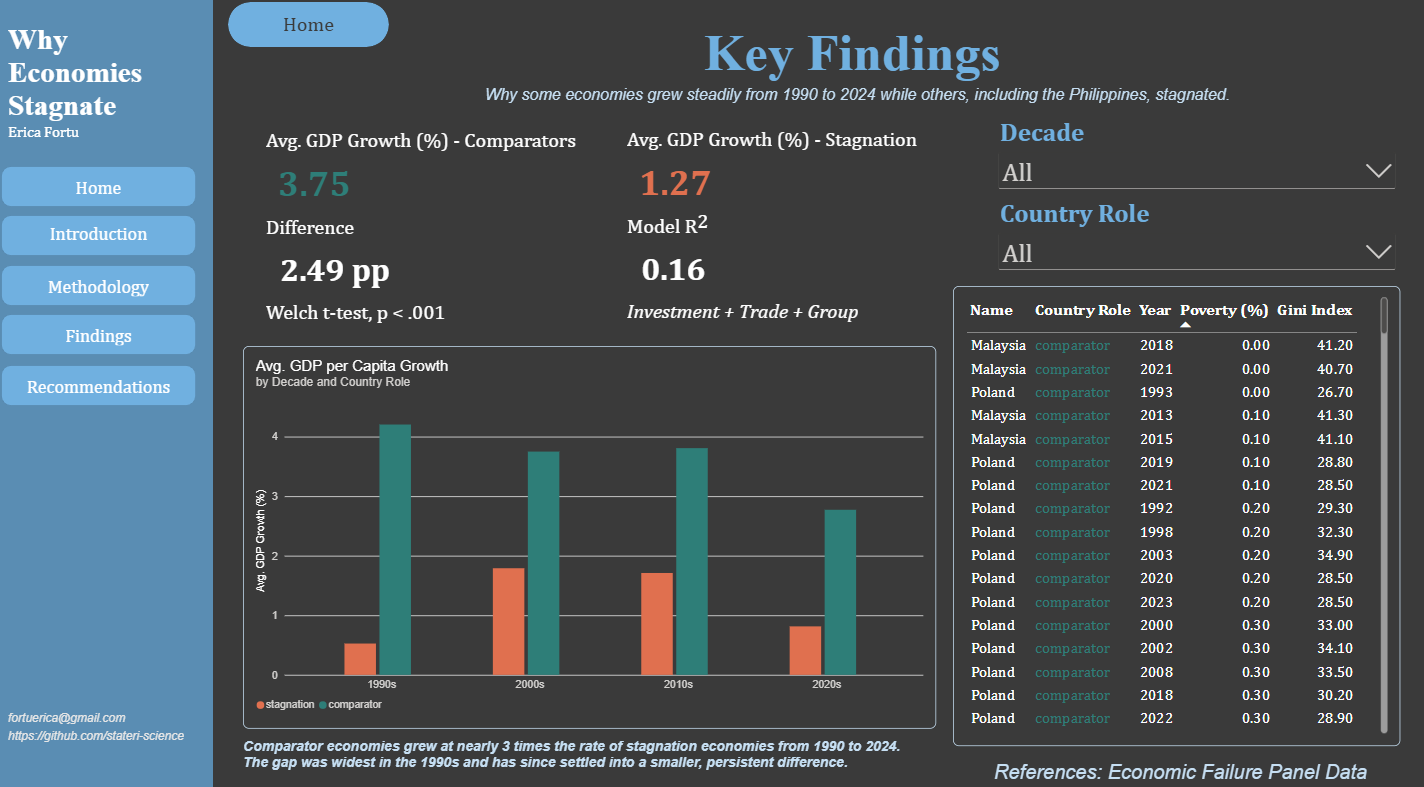

The page's visual inventory and layout, read from the dashboard file:
{"tool":"powerbi","page":{"name":"Findings","canvas":[1920,1080],"ordinal":3},"visuals":[{"type":"shape","box":[316.6,18.6,214.1,59.9],"z":0,"group":"g6"},{"type":"group","id":"g1","title":"Group 1","box":[46.7,61.3,100,40],"z":0},{"type":"actionButton","box":[316.6,35,100,40],"z":1000,"group":"g5"},{"type":"actionButton","box":[316.6,35,100,40],"z":1000,"group":"g4"},{"type":"actionButton","box":[46.7,61.3,100,40],"z":1000,"group":"g1"},{"type":"actionButton","box":[46.7,61.3,100,40],"z":1000,"group":"g2"},{"type":"group","id":"g2","title":"Group 1","box":[46.7,61.3,100,40],"z":1000},{"type":"actionButton","box":[0,0,296.6,1080],"z":2000},{"type":"textbox","title":"Why Economies Stagnate","box":[23.9,46.6,250,166.3],"z":3000},{"type":"shape","box":[14.6,301.9,259.4,54.5],"z":4000},{"type":"shape","box":[14.6,368.4,259.4,54.5],"z":5000},{"type":"shape","box":[14.6,433.6,259.4,54.5],"z":6000},{"type":"textbox","title":"fortuerica@gmail.com","box":[23.9,961.6,250,23.9],"z":7000},{"type":"textbox","title":"https://github.com/stateri-science","box":[23.9,985.6,250,23.9],"z":8000},{"type":"shape","box":[14.6,501.4,259.4,54.5],"z":9000},{"type":"group","id":"g3","title":"Group 1","box":[14.6,236.7,259.4,54.5],"z":10000},{"type":"shape","title":"Methodology","box":[21.3,243.4,246.1,41.2],"z":11000},{"type":"shape","title":"Methodology","box":[21.3,304.6,246.1,41.2],"z":12000},{"type":"shape","box":[14.6,236.7,259.4,54.5],"z":13000,"group":"g3"},{"type":"shape","title":"Methodology","box":[21.3,375.1,246.1,41.2],"z":13000},{"type":"shape","title":"Methodology","box":[21.3,440.2,246.1,41.2],"z":14000},{"type":"shape","title":"Methodology","box":[21.3,508.1,246.1,41.2],"z":15000},{"type":"group","id":"g4","title":"Group 1","box":[316.6,35,100,40],"z":16000},{"type":"group","id":"g5","title":"Group 1","box":[316.6,35,100,40],"z":17000},{"type":"textbox","title":"References: Economic Failure Panel Data","box":[1335.1,1028,541.3,35],"z":18000},{"type":"cardVisual","title":"Avg. GDP Growth (%) - Comparators","fields":{"Data":["Avg(stagnation_panel_1990_2024.gdp_pc_growth_yoy)"]},"box":[367.3,186.5,435.8,99.7],"z":19000,"group":"g7"},{"type":"clusteredColumnChart","fields":{"Category":["stagnation_panel_1990_2024.decade"],"Series":["stagnation_panel_1990_2024.country_role"],"Y":["Avg(stagnation_panel_1990_2024.gdp_pc_growth_yoy)"]},"box":[336.5,476.2,921.7,509.4],"z":19000},{"type":"slicer","fields":{"Values":["stagnation_panel_1990_2024.decade"]},"box":[1335.1,171,540.2,108.8],"z":20000},{"type":"cardVisual","title":"Avg. GDP Growth (%) - Stagnation","fields":{"Data":["Avg(stagnation_panel_1990_2024.gdp_pc_growth_yoy)"]},"box":[847.3,184.6,435.8,99.7],"z":20000,"group":"g7"},{"type":"slicer","fields":{"Values":["stagnation_panel_1990_2024.country_role"]},"box":[1335.1,279.8,540.2,116.6],"z":21000},{"type":"textbox","box":[367.1,285.9,291.3,174.2],"z":21000,"group":"g7"},{"type":"textbox","box":[847.3,283.7,347.9,176.8],"z":22000,"group":"g7"},{"type":"tableEx","fields":{"Values":["stagnation_panel_1990_2024.name","stagnation_panel_1990_2024.country_role","stagnation_panel_1990_2024.year","Avg(stagnation_panel_1990_2024.poverty_215_headcount_pct)","Sum(stagnation_panel_1990_2024.gini_idx)"]},"box":[1280.8,396.4,594.7,612.1],"z":22000},{"type":"actionButton","title":"Key Findings","box":[950.3,46.6,489.7,93.3],"z":23000},{"type":"textbox","box":[336.2,996.9,884.2,48.6],"z":24000},{"type":"textbox","box":[658.8,130.2,1012.5,40.8],"z":25000},{"type":"group","id":"g6","title":"Group 1","box":[316.6,18.6,214.1,59.9],"z":26000},{"type":"group","id":"g7","title":"Group 2","box":[367.1,184.6,916,276],"z":27000}]}

Visuals, with their boxes in screenshot pixels (x1, y1, x2, y2), scaled from the page's 1920x1080 canvas onto the 1424x787 screenshot:
shape: <bbox>235, 14, 394, 57</bbox>
"Group 1" group: <bbox>35, 45, 109, 74</bbox>
actionButton: <bbox>235, 26, 309, 55</bbox>
actionButton: <bbox>235, 26, 309, 55</bbox>
actionButton: <bbox>35, 45, 109, 74</bbox>
actionButton: <bbox>35, 45, 109, 74</bbox>
"Group 1" group: <bbox>35, 45, 109, 74</bbox>
actionButton: <bbox>0, 0, 220, 786</bbox>
"Why Economies Stagnate" textbox: <bbox>18, 34, 203, 155</bbox>
shape: <bbox>11, 220, 203, 260</bbox>
shape: <bbox>11, 268, 203, 308</bbox>
shape: <bbox>11, 316, 203, 356</bbox>
"fortuerica@gmail.com" textbox: <bbox>18, 701, 203, 718</bbox>
"https://github.com/stateri-science" textbox: <bbox>18, 718, 203, 736</bbox>
shape: <bbox>11, 365, 203, 405</bbox>
"Group 1" group: <bbox>11, 172, 203, 212</bbox>
"Methodology" shape: <bbox>16, 177, 198, 207</bbox>
"Methodology" shape: <bbox>16, 222, 198, 252</bbox>
shape: <bbox>11, 172, 203, 212</bbox>
"Methodology" shape: <bbox>16, 273, 198, 303</bbox>
"Methodology" shape: <bbox>16, 321, 198, 351</bbox>
"Methodology" shape: <bbox>16, 370, 198, 400</bbox>
"Group 1" group: <bbox>235, 26, 309, 55</bbox>
"Group 1" group: <bbox>235, 26, 309, 55</bbox>
"References: Economic Failure Panel Data" textbox: <bbox>990, 749, 1392, 775</bbox>
"Avg. GDP Growth (%) - Comparators" cardVisual: <bbox>272, 136, 596, 209</bbox>
clusteredColumnChart - stagnation_panel_1990_2024.decade x stagnation_panel_1990_2024.country_role: <bbox>250, 347, 933, 718</bbox>
slicer - stagnation_panel_1990_2024.decade: <bbox>990, 125, 1391, 204</bbox>
"Avg. GDP Growth (%) - Stagnation" cardVisual: <bbox>628, 135, 952, 207</bbox>
slicer - stagnation_panel_1990_2024.country_role: <bbox>990, 204, 1391, 289</bbox>
textbox: <bbox>272, 208, 488, 335</bbox>
textbox: <bbox>628, 207, 886, 336</bbox>
tableEx - stagnation_panel_1990_2024.name x stagnation_panel_1990_2024.country_role: <bbox>950, 289, 1391, 735</bbox>
"Key Findings" actionButton: <bbox>705, 34, 1068, 102</bbox>
textbox: <bbox>249, 726, 905, 762</bbox>
textbox: <bbox>489, 95, 1240, 125</bbox>
"Group 1" group: <bbox>235, 14, 394, 57</bbox>
"Group 2" group: <bbox>272, 135, 952, 336</bbox>
